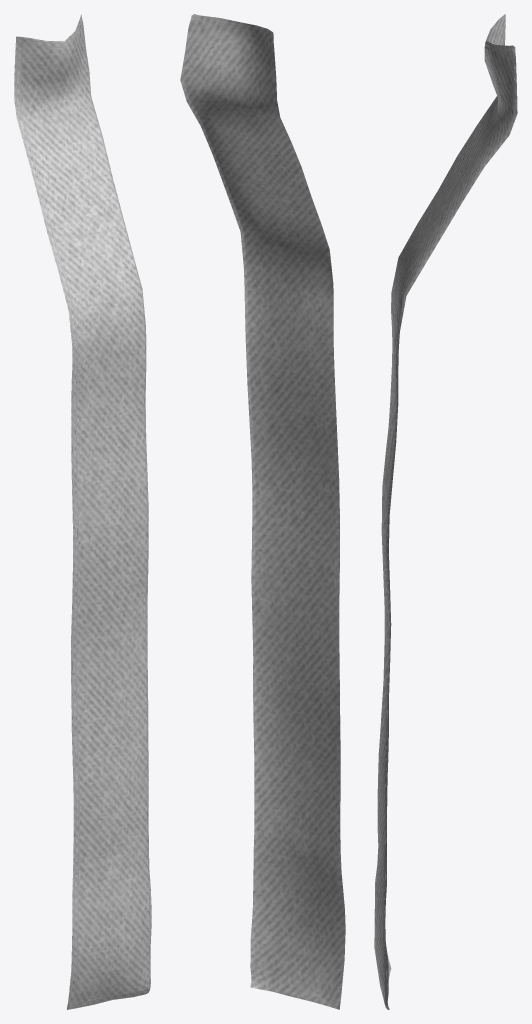
Rendered from Planka.glb.
3 renders of one model, left to right at view 1: azimuth 30°, elevation 25°; view 2: azimuth 150°, elevation 25°; view 3: azimuth 270°, elevation 25°, orthographic. The views are drawn at different scales.
Visible parts, largest first — view 1: Planka1, Rope1; view 2: Planka1; view 3: Planka1, Rope1.
Part boxes in pixels (box(x1,y1,x2,y2)): Planka1: box(14, 14, 151, 1009); Rope1: box(15, 15, 150, 1008); Planka1: box(180, 14, 345, 1009); Planka1: box(374, 14, 517, 1009); Rope1: box(383, 42, 514, 1008).
Bounding box in the file's own units: 0.1347 × 1.43 × 0.193.
Materials: 2 (2 with a texture image).
